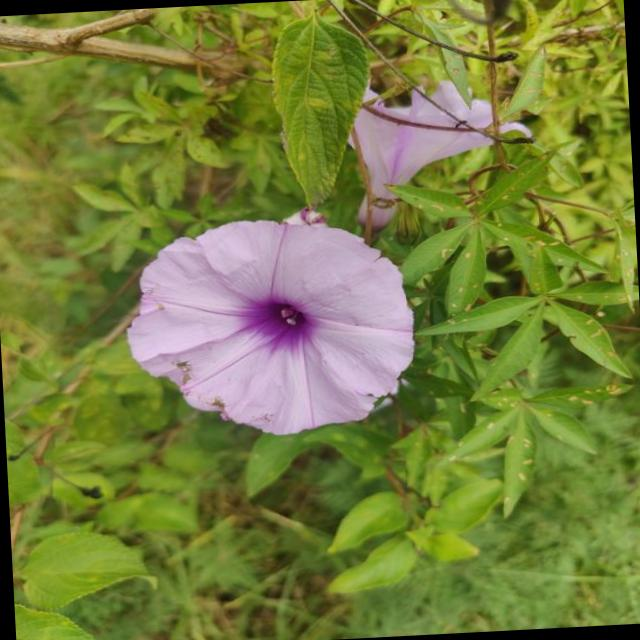ipomoea: (116, 208, 424, 446), (341, 72, 539, 232)
